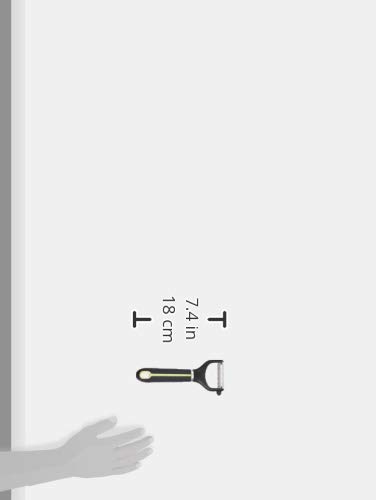gL: (163, 297, 175, 314)
